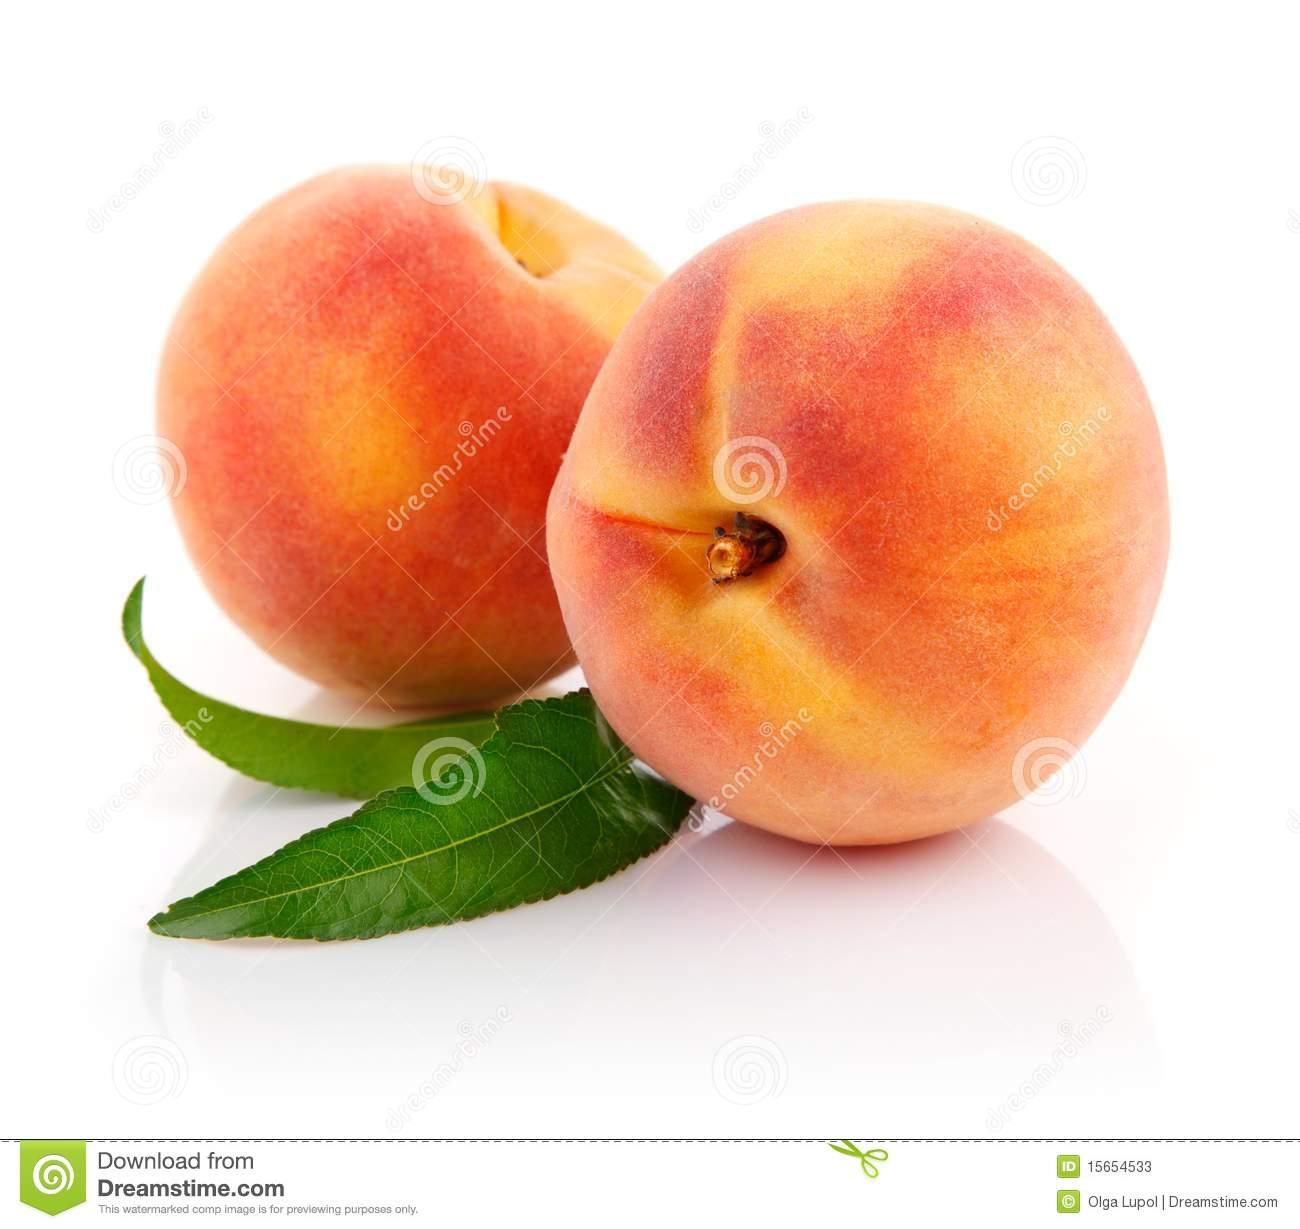Peach leaf: (129, 703, 711, 964), (107, 572, 538, 800)
